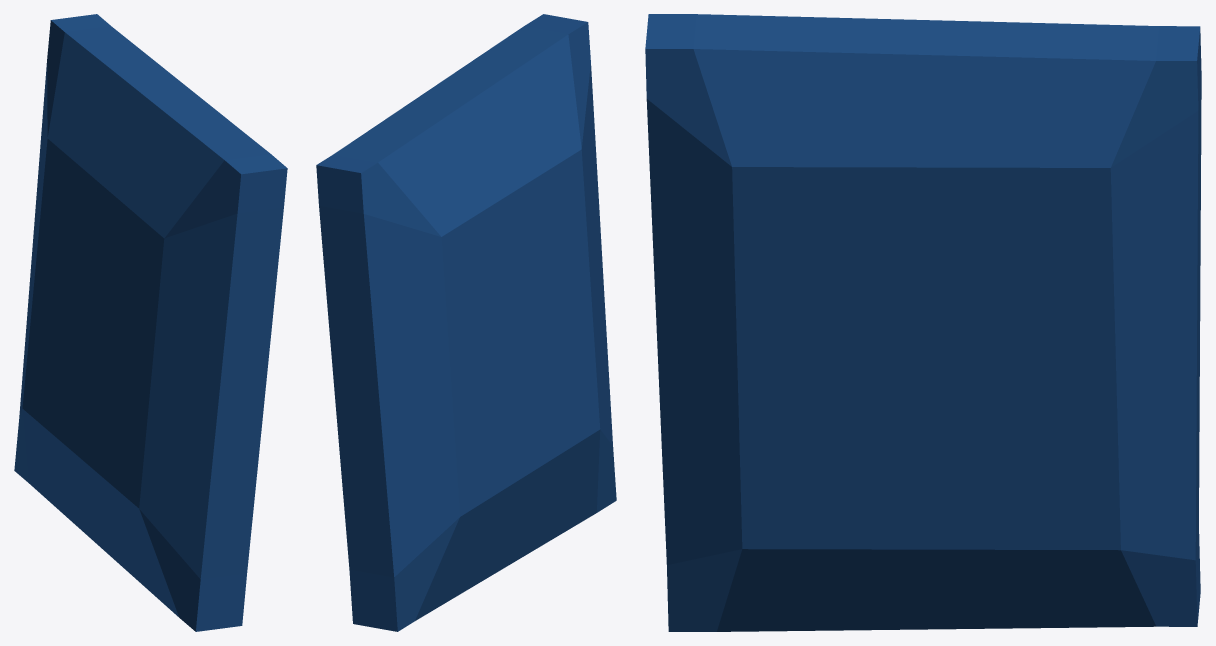
File: Pude_2.fbx
3 renders of one model, left to right at view 1: azimuth 30°, elevation 25°; view 2: azimuth 150°, elevation 25°; view 3: azimuth 270°, elevation 25°, orthographic. The views are drawn at different scales.
Parts seen in each view (by area): view 1: Pude_1; view 2: Pude_1; view 3: Pude_1.
Part boxes in pixels (left/top/right/bottom): Pude_1: left=14, top=14, right=287, bottom=631; Pude_1: left=316, top=14, right=616, bottom=631; Pude_1: left=645, top=14, right=1201, bottom=631.
Bounding box in the file's own units: 17.24 × 54.45 × 44.77.
